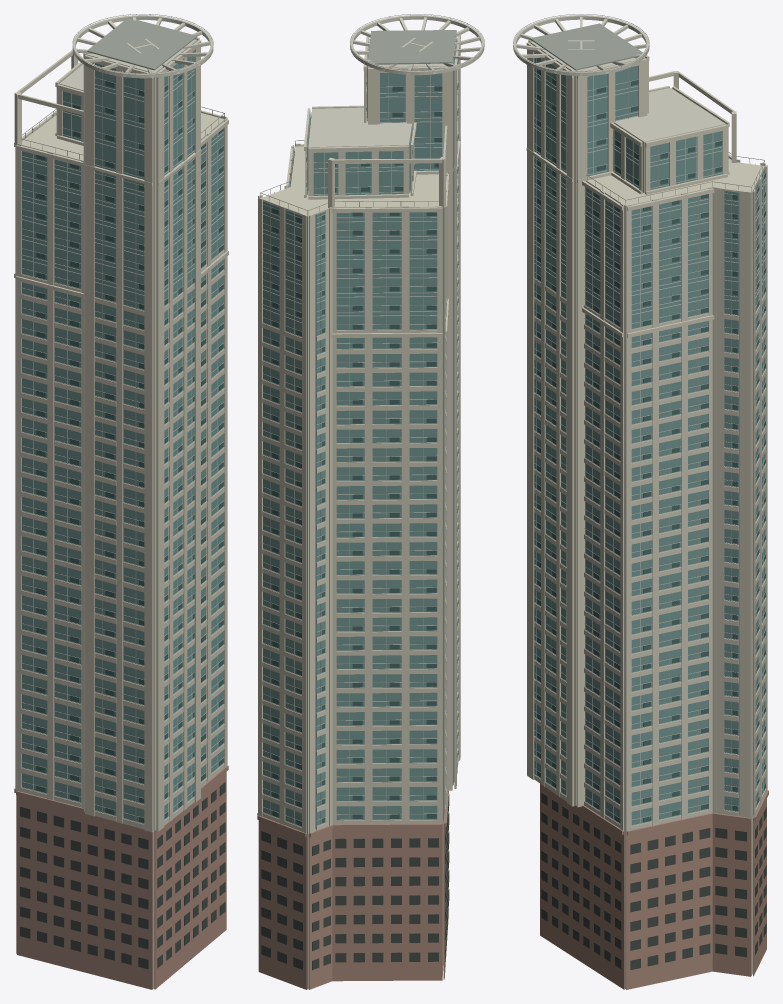
File: bespoke-mokdong-trapalace-western-b.glb
3 renders of one model, left to right at view 1: azimuth 30°, elevation 25°; view 2: azimuth 150°, elevation 25°; view 3: azimuth 270°, elevation 25°, orthographic. The views are drawn at different scales.
Parts seen in each view (by area): view 1: 웨스턴_B_stone_and_green_window_bays002, 웨스턴_B_stone_and_green_window_bays002_1, 웨스턴_B_stone_and_green_window_bays002_4, 웨스턴_B_stone_and_green_window_bays002_3, 웨스턴_B_stone_and_green_window_bays002_2, 웨스턴_B_stone_and_green_window_bays002_5, 웨스턴_B_roofplan_body, 웨스턴_B_stepped_crown_and_round_helipad002_1, 웨스턴_B_stepped_crown_and_round_helipad002_2, 웨스턴_B_stepped_crown_and_round_helipad002, 웨스턴_B_stepped_crown_and_round_helipad002_3; view 2: 웨스턴_B_stone_and_green_window_bays002_1, 웨스턴_B_stone_and_green_window_bays002, 웨스턴_B_stone_and_green_window_bays002_4, 웨스턴_B_stone_and_green_window_bays002_3, 웨스턴_B_roofplan_body, 웨스턴_B_stone_and_green_window_bays002_2, 웨스턴_B_stone_and_green_window_bays002_5, 웨스턴_B_stepped_crown_and_round_helipad002_1, 웨스턴_B_stepped_crown_and_round_helipad002_2, 웨스턴_B_stepped_crown_and_round_helipad002, 웨스턴_B_stepped_crown_and_round_helipad002_3; view 3: 웨스턴_B_stone_and_green_window_bays002, 웨스턴_B_stone_and_green_window_bays002_1, 웨스턴_B_stone_and_green_window_bays002_4, 웨스턴_B_stone_and_green_window_bays002_3, 웨스턴_B_roofplan_body, 웨스턴_B_stone_and_green_window_bays002_5, 웨스턴_B_stone_and_green_window_bays002_2, 웨스턴_B_stepped_crown_and_round_helipad002_1, 웨스턴_B_stepped_crown_and_round_helipad002_2, 웨스턴_B_stepped_crown_and_round_helipad002, 웨스턴_B_stepped_crown_and_round_helipad002_3.
Part boxes in pixels (<box>): 웨스턴_B_stone_and_green_window_bays002: <box>14,21,228,832</box>; 웨스턴_B_stone_and_green_window_bays002_1: <box>22,50,223,823</box>; 웨스턴_B_stone_and_green_window_bays002_4: <box>14,765,228,989</box>; 웨스턴_B_stone_and_green_window_bays002_3: <box>21,56,224,824</box>; 웨스턴_B_stone_and_green_window_bays002_2: <box>36,69,223,822</box>; 웨스턴_B_stone_and_green_window_bays002_5: <box>20,782,225,969</box>; 웨스턴_B_roofplan_body: <box>22,42,224,988</box>; 웨스턴_B_stepped_crown_and_round_helipad002_1: <box>60,15,213,90</box>; 웨스턴_B_stepped_crown_and_round_helipad002_2: <box>87,18,197,70</box>; 웨스턴_B_stepped_crown_and_round_helipad002: <box>14,49,83,145</box>; 웨스턴_B_stepped_crown_and_round_helipad002_3: <box>21,14,224,159</box>; 웨스턴_B_stone_and_green_window_bays002_1: <box>263,38,457,828</box>; 웨스턴_B_stone_and_green_window_bays002: <box>258,32,460,833</box>; 웨스턴_B_stone_and_green_window_bays002_4: <box>257,790,448,989</box>; 웨스턴_B_stone_and_green_window_bays002_3: <box>262,38,458,829</box>; 웨스턴_B_roofplan_body: <box>261,37,456,988</box>; 웨스턴_B_stone_and_green_window_bays002_2: <box>272,60,458,826</box>; 웨스턴_B_stone_and_green_window_bays002_5: <box>261,794,449,970</box>; 웨스턴_B_stepped_crown_and_round_helipad002_1: <box>308,15,484,147</box>; 웨스턴_B_stepped_crown_and_round_helipad002_2: <box>368,30,456,64</box>; 웨스턴_B_stepped_crown_and_round_helipad002: <box>328,125,447,208</box>; 웨스턴_B_stepped_crown_and_round_helipad002_3: <box>260,14,484,215</box>; 웨스턴_B_stone_and_green_window_bays002: <box>526,40,767,831</box>; 웨스턴_B_stone_and_green_window_bays002_1: <box>534,52,765,825</box>; 웨스턴_B_stone_and_green_window_bays002_4: <box>540,783,768,989</box>; 웨스턴_B_stone_and_green_window_bays002_3: <box>534,53,765,825</box>; 웨스턴_B_roofplan_body: <box>545,60,764,988</box>; 웨스턴_B_stone_and_green_window_bays002_5: <box>541,792,766,969</box>; 웨스턴_B_stone_and_green_window_bays002_2: <box>537,69,765,822</box>; 웨스턴_B_stepped_crown_and_round_helipad002_1: <box>513,15,725,142</box>; 웨스턴_B_stepped_crown_and_round_helipad002_2: <box>530,23,642,70</box>; 웨스턴_B_stepped_crown_and_round_helipad002: <box>649,71,736,162</box>; 웨스턴_B_stepped_crown_and_round_helipad002_3: <box>513,14,764,205</box>.
Size of the model in its own units: 34.42 by 163 by 42.09.
